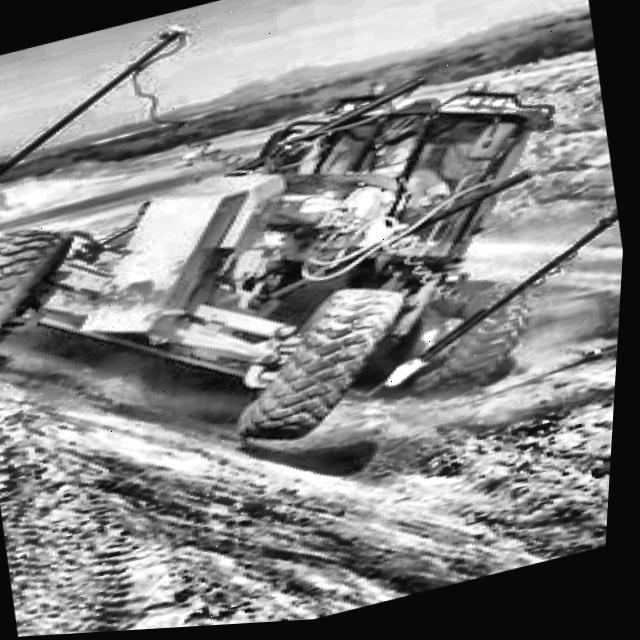buldozerpayloadergrader: (0, 0, 613, 515)
